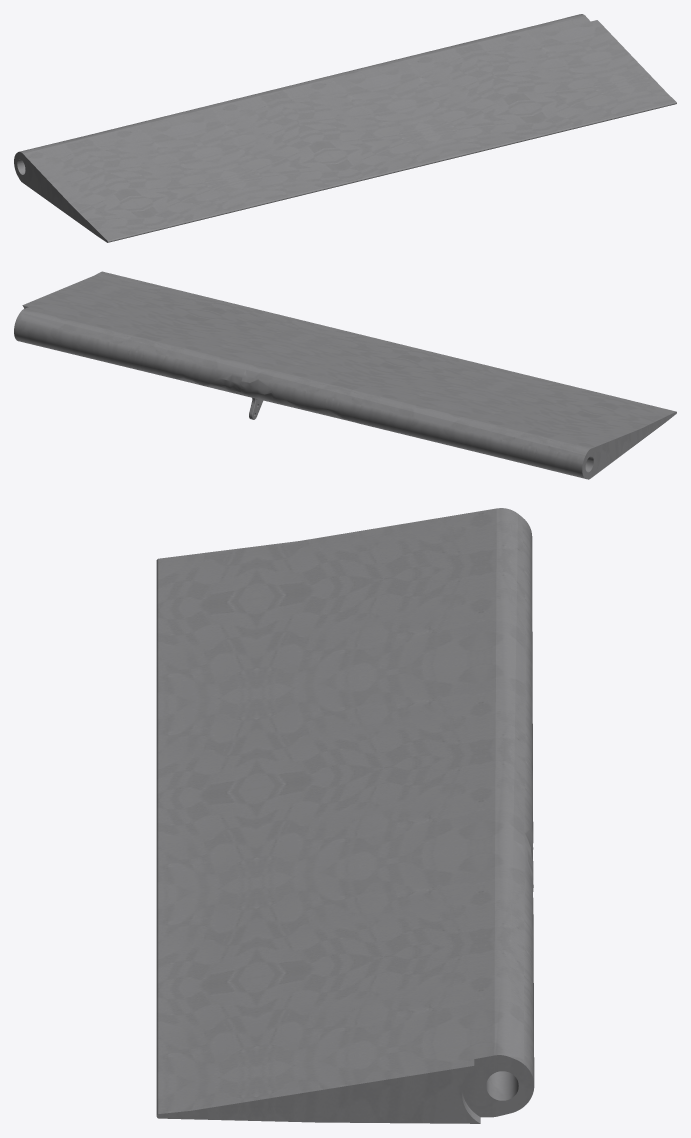
File: elevon_left.glb
3 renders of one model, top to bottom at view 1: azimuth 30°, elevation 25°; view 2: azimuth 150°, elevation 25°; view 3: azimuth 270°, elevation 25°, orthographic. The views are drawn at different scales.
Parts seen in each view (by area): view 1: Elevon_L2, Elevon_L1; view 2: Elevon_L2, Elevon_L1; view 3: Elevon_L2, Elevon_L1.
Boxes of the visible parts, box(x1,y1,x2,y2) form: Elevon_L2: box(14, 69, 445, 242); Elevon_L1: box(358, 14, 676, 160); Elevon_L2: box(241, 328, 676, 479); Elevon_L1: box(14, 271, 335, 418); Elevon_L2: box(156, 508, 533, 889); Elevon_L1: box(156, 836, 534, 1123).
Size of the model in its own units: 0.418 by 0.0395 by 0.1201.
1 material, 1 textured.
